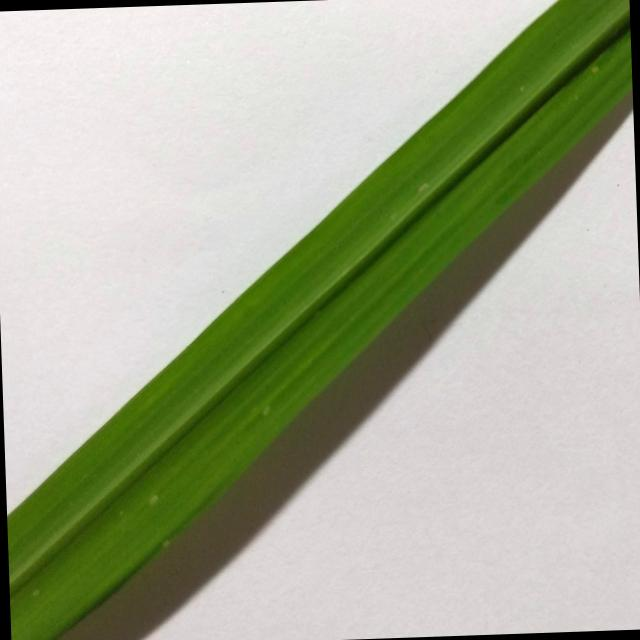Rice_Healthy: (7, 0, 632, 640)
